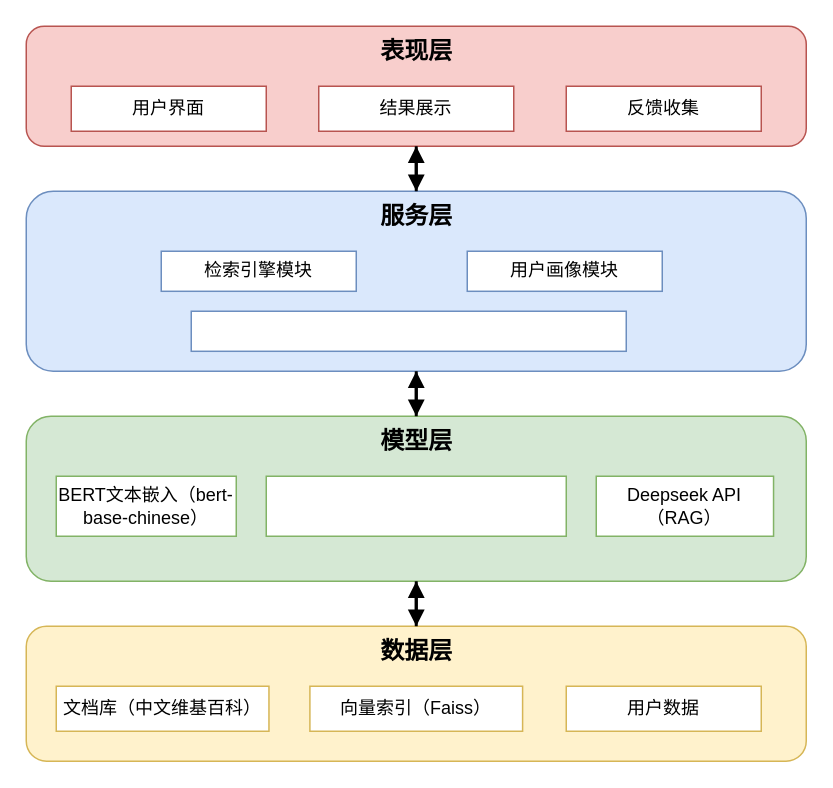
Some shapes in this 833 by 788 pixel diagram are drawn without their labels. Here are the shapes that lost their labels. From the top down, the box of each, then its label:
(190, 310, 626, 351): 功能：查询处理、向量检索、排序、融合
(265, 475, 566, 536): 用户兴趣建模（SentenceTransformer, CLS池化）
